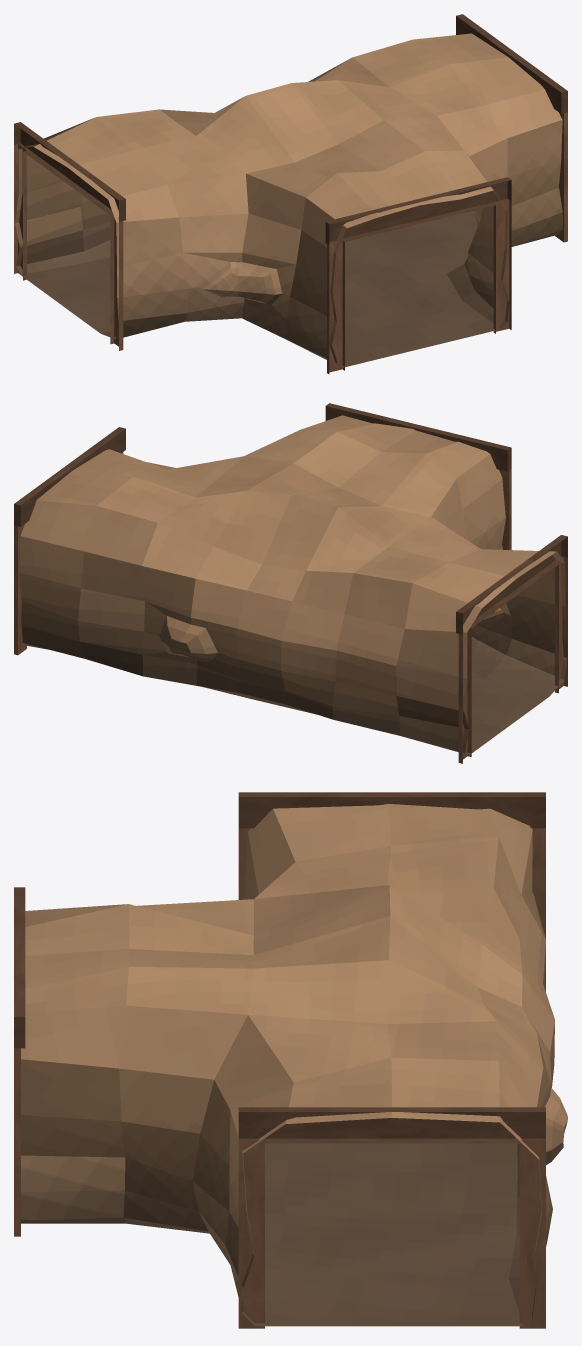
Rendered from SM_OreTJunction.fbx.
3 renders of one model, top to bottom at view 1: azimuth 30°, elevation 25°; view 2: azimuth 150°, elevation 25°; view 3: azimuth 270°, elevation 25°, orthographic. The views are drawn at different scales.
Visible parts, largest first — view 1: T Junction.001, Support -y, Support -x, Support x; view 2: T Junction.001, Support -x, Support x, Support -y; view 3: T Junction.001, Support x, Support -x, Support -y.
Part boxes in pixels (bbox=[...]): T Junction.001: bbox=[15, 33, 562, 367]; Support -y: bbox=[325, 177, 511, 374]; Support -x: bbox=[14, 122, 125, 350]; Support x: bbox=[456, 14, 567, 242]; T Junction.001: bbox=[19, 415, 567, 755]; Support -x: bbox=[456, 535, 567, 763]; Support x: bbox=[14, 427, 125, 655]; Support -y: bbox=[325, 403, 511, 549]; T Junction.001: bbox=[21, 803, 567, 1326]; Support x: bbox=[238, 1107, 545, 1328]; Support -x: bbox=[238, 792, 545, 991]; Support -y: bbox=[14, 887, 25, 1236].
Size of the model in its own units: 1000 by 373 by 732.
